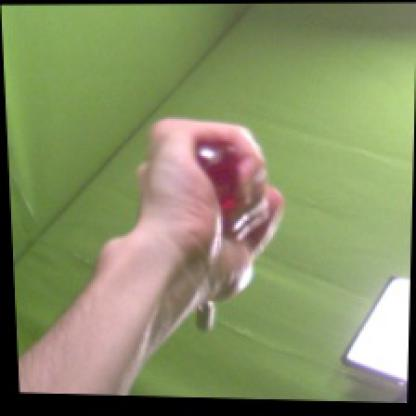Hand: (135, 119, 285, 302)
